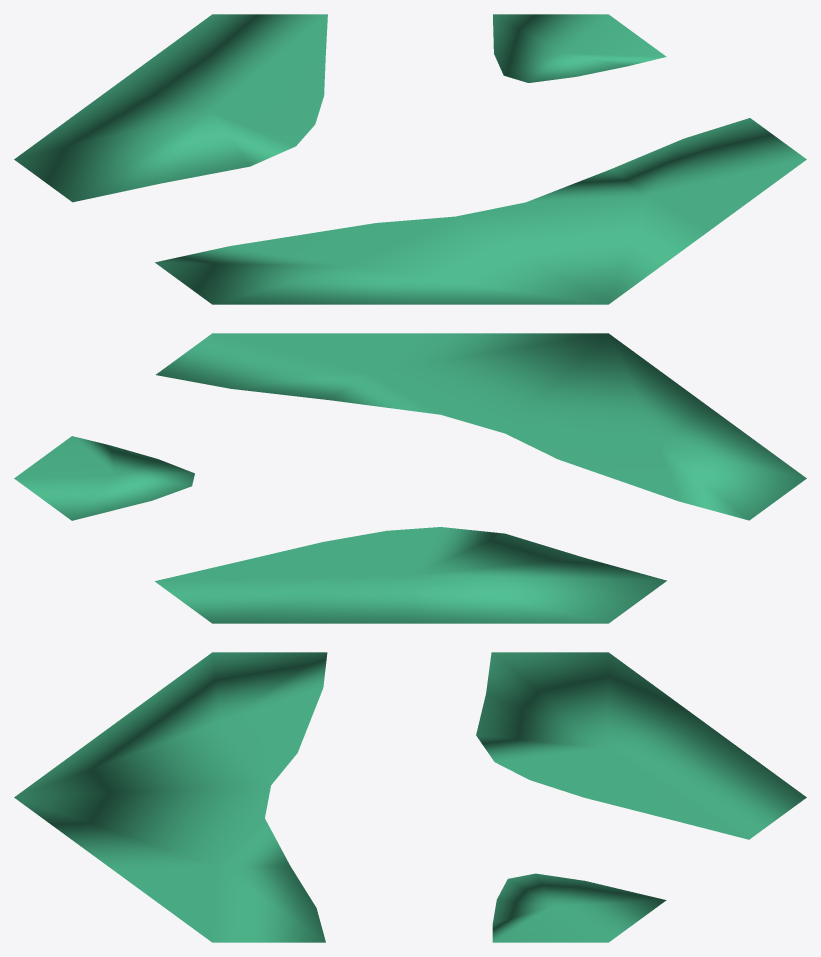
The model's file is riverF_flat.fbx.
3 renders of one model, top to bottom at view 1: azimuth 30°, elevation 25°; view 2: azimuth 150°, elevation 25°; view 3: azimuth 270°, elevation 25°, orthographic.
Parts seen in each view (by area): view 1: hex_forest_roadF_Cylinder.499; view 2: hex_forest_roadF_Cylinder.499; view 3: hex_forest_roadF_Cylinder.499.
Boxes of the visible parts, <box> form: hex_forest_roadF_Cylinder.499: <box>14,14,806,304</box>; hex_forest_roadF_Cylinder.499: <box>14,333,806,623</box>; hex_forest_roadF_Cylinder.499: <box>14,652,806,942</box>.
Size of the model in its own units: 189 by 1.65e-05 by 219.
